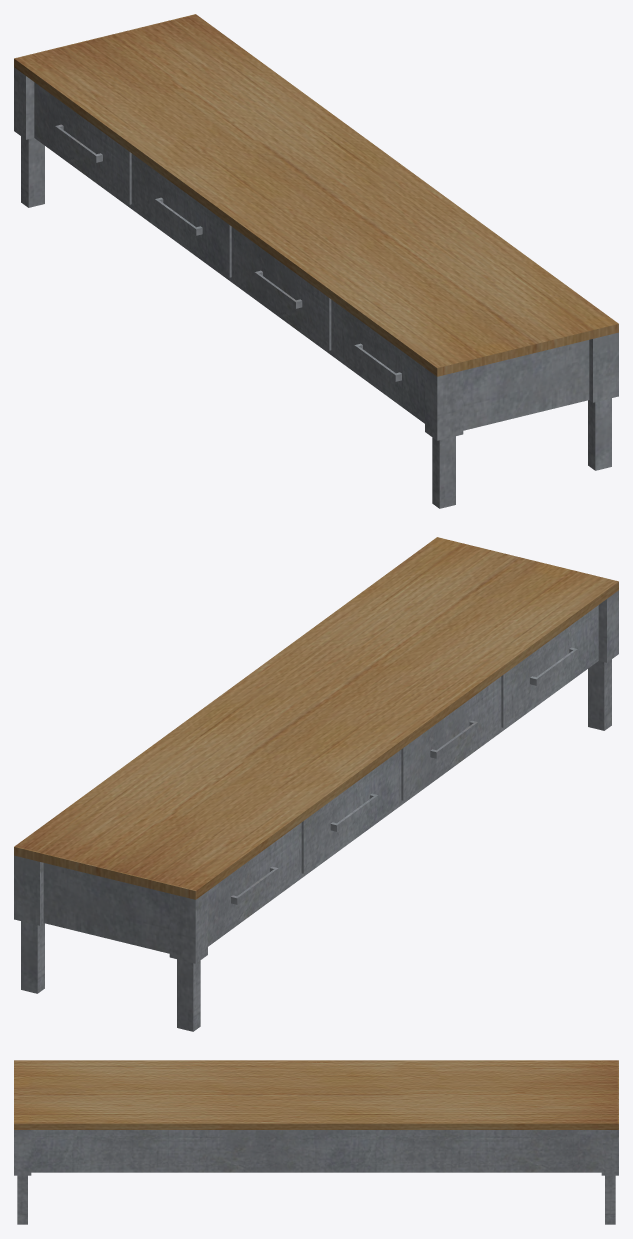
Rendered from Long_Table.fbx.
The picture shows the model from 3 angles, top to bottom: view 1: azimuth 30°, elevation 25°; view 2: azimuth 150°, elevation 25°; view 3: azimuth 270°, elevation 25°; orthographic projection. The views are drawn at different scales.
Visible parts, largest first — view 1: LongTable; view 2: LongTable; view 3: LongTable.
Part boxes in pixels (bbox=[...]): LongTable: bbox=[14, 14, 618, 508]; LongTable: bbox=[14, 537, 618, 1031]; LongTable: bbox=[14, 1060, 618, 1224].
Bounding box in the file's own units: 540 × 407 × 2176.
Materials: 1 (1 with a texture image).
